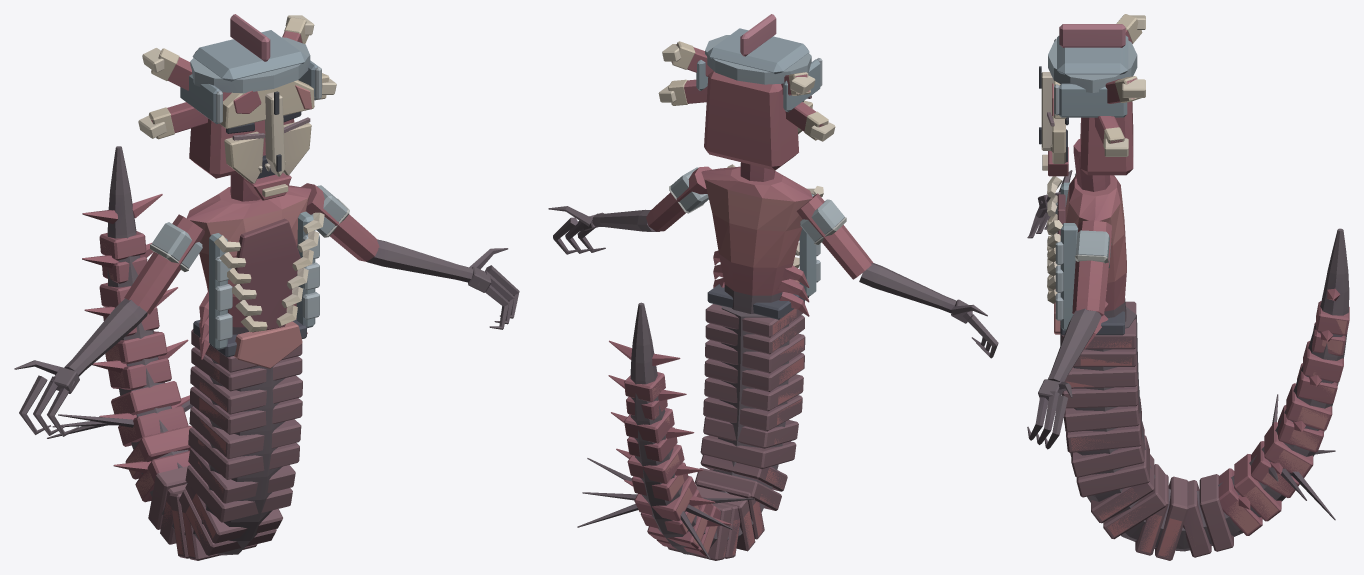
The model's file is DredgeKnight.glb.
The picture shows the model from 3 angles, left to right: view 1: azimuth 30°, elevation 25°; view 2: azimuth 150°, elevation 25°; view 3: azimuth 270°, elevation 25°; orthographic projection. The views are drawn at different scales.
Visible parts, largest first — view 1: Body, Head, ArmR, ArmL; view 2: Body, Head, ArmR, ArmL; view 3: Body, Head, ArmL, ArmR.
Boxes of the visible parts, left/top/right/bottom form: Body: left=47, top=146, right=324, bottom=560; Head: left=138, top=14, right=336, bottom=201; ArmR: left=14, top=214, right=204, bottom=436; ArmL: left=301, top=183, right=519, bottom=329; Body: left=577, top=164, right=823, bottom=560; Head: left=658, top=14, right=835, bottom=181; ArmR: left=796, top=193, right=998, bottom=358; ArmL: left=548, top=166, right=711, bottom=254; Body: left=1047, top=175, right=1349, bottom=560; Head: left=1039, top=14, right=1145, bottom=191; ArmL: left=1027, top=220, right=1111, bottom=449; ArmR: left=1027, top=170, right=1076, bottom=238.
Size of the model in its own units: 6.83 by 7.27 by 4.04.
